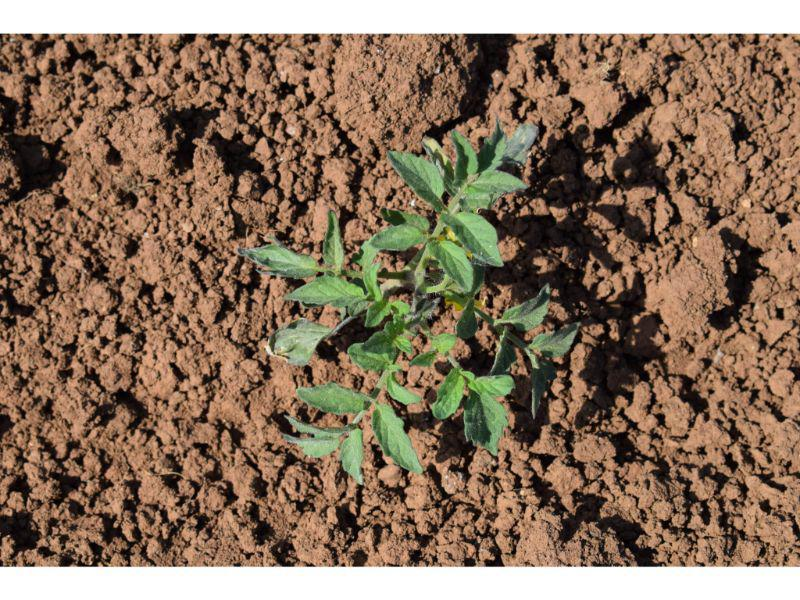tomato: (239, 120, 579, 487)
